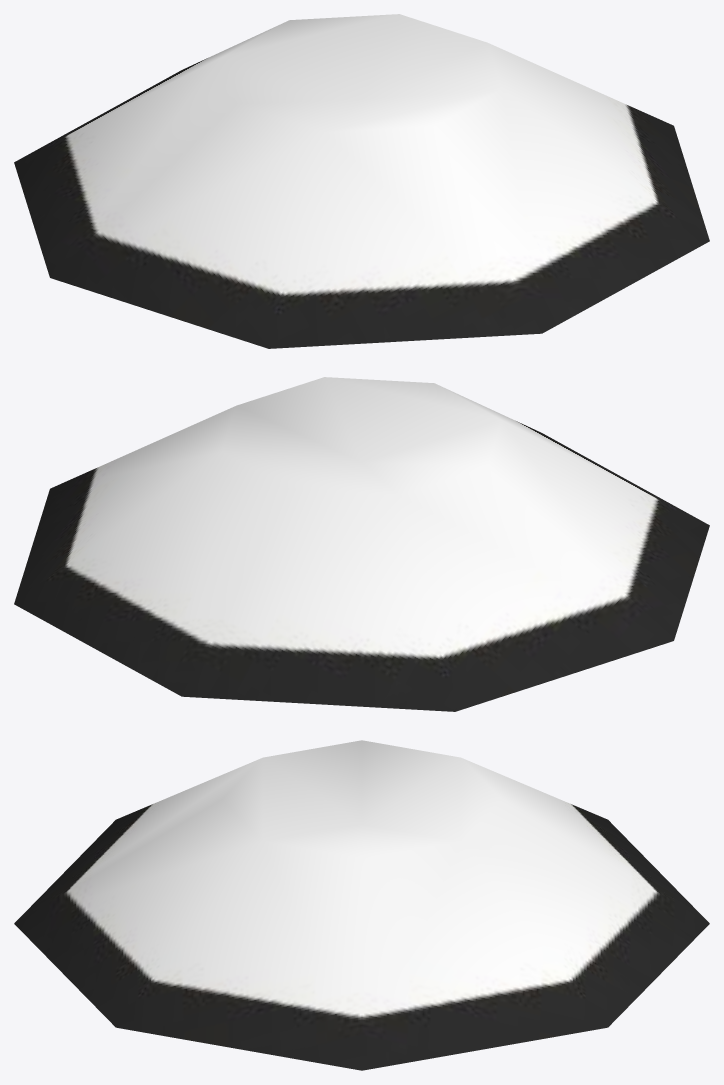
Rendered from defaultconew.glb.
3 views of the same model, one above another, from view 1: azimuth 30°, elevation 25°; view 2: azimuth 150°, elevation 25°; view 3: azimuth 270°, elevation 25° (orthographic). The views are drawn at different scales.
Visible parts, largest first — view 1: DefaultConeW; view 2: DefaultConeW; view 3: DefaultConeW.
Part boxes in pixels (x1,y1,x2,y2): DefaultConeW: [14, 14, 709, 348]; DefaultConeW: [14, 377, 709, 711]; DefaultConeW: [14, 740, 709, 1070].
Size of the model in its own units: 0.312 by 0.0614 by 0.312.
Materials: 1 (1 with a texture image).
